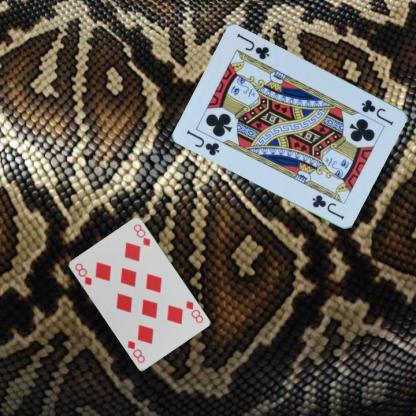8d: (183, 298, 205, 325), (72, 260, 93, 286)
Jc: (184, 127, 221, 157), (359, 96, 395, 126)
